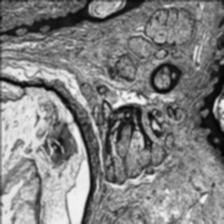Non-Cancerous Skin Condition: (97, 66, 208, 224), (0, 75, 92, 224), (64, 0, 208, 53)
